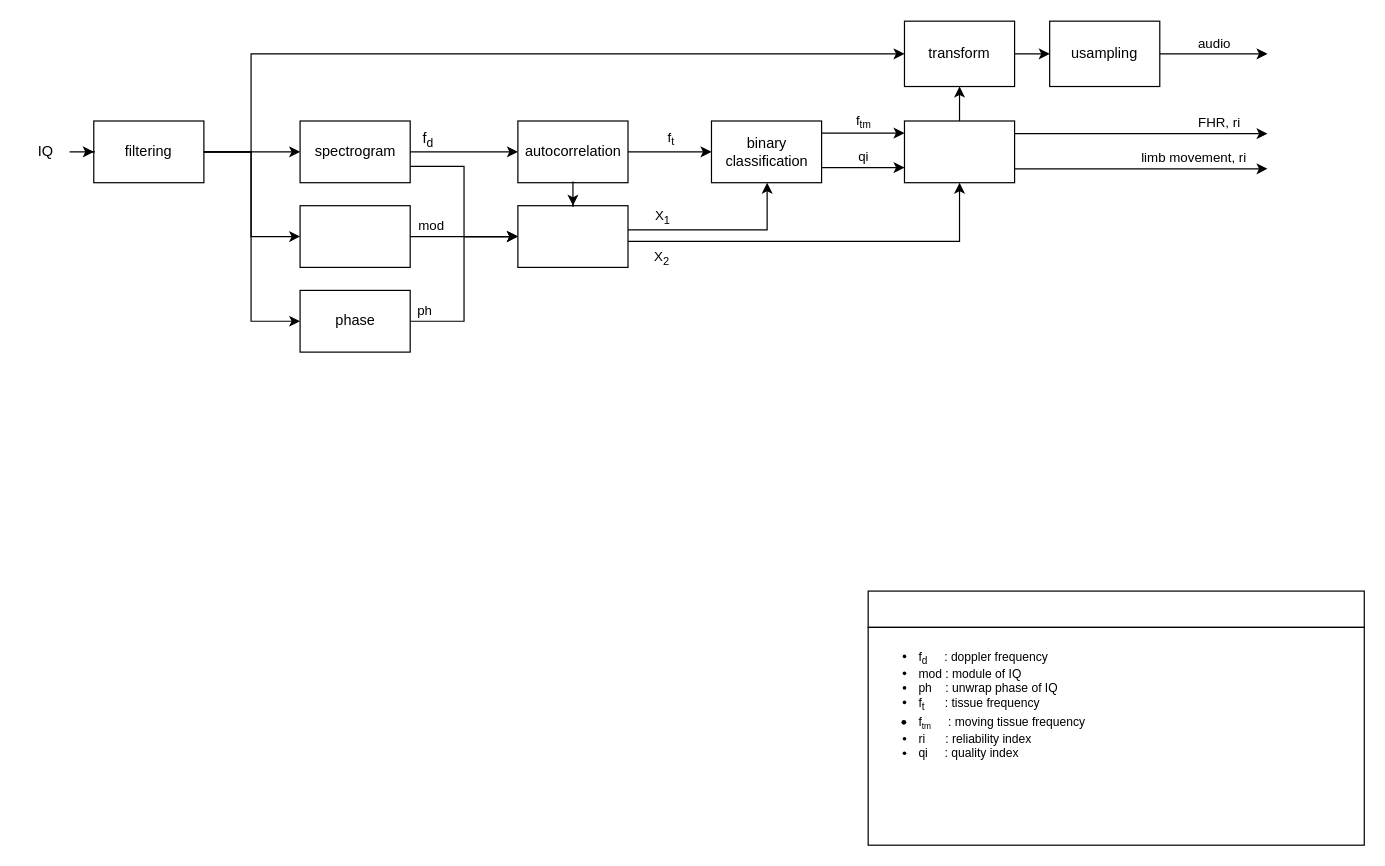
Some shapes in this 1385 by 866 pixel diagram are drawn without their labels. The shapes that lost their labels are listed below. From the top down, each one's centre as x and y in pixels, then its label:
At (x=959, y=151): "mutliclass classification".
At (x=354, y=235): "module".
At (x=572, y=235): "feature extraction".
At (x=1115, y=608): "Glossary".
